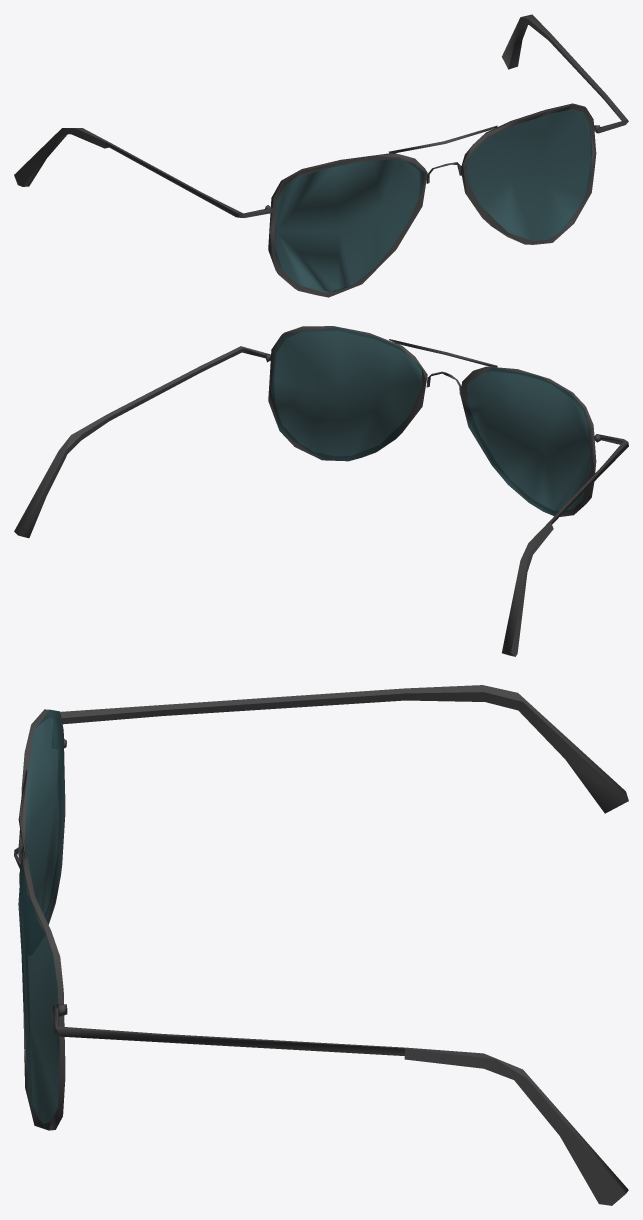
Rendered from sunglasses_pivot.fbx.
3 renders of one model, top to bottom at view 1: azimuth 30°, elevation 25°; view 2: azimuth 150°, elevation 25°; view 3: azimuth 270°, elevation 25°, orthographic. The views are drawn at different scales.
Visible parts, largest first — view 1: Aviators; view 2: Aviators; view 3: Aviators.
Part boxes in pixels (x1,y1,x2,y2): Aviators: [14, 14, 628, 297]; Aviators: [14, 326, 628, 656]; Aviators: [14, 685, 628, 1205].
Size of the model in its own units: 314 by 81.38 by 203.
